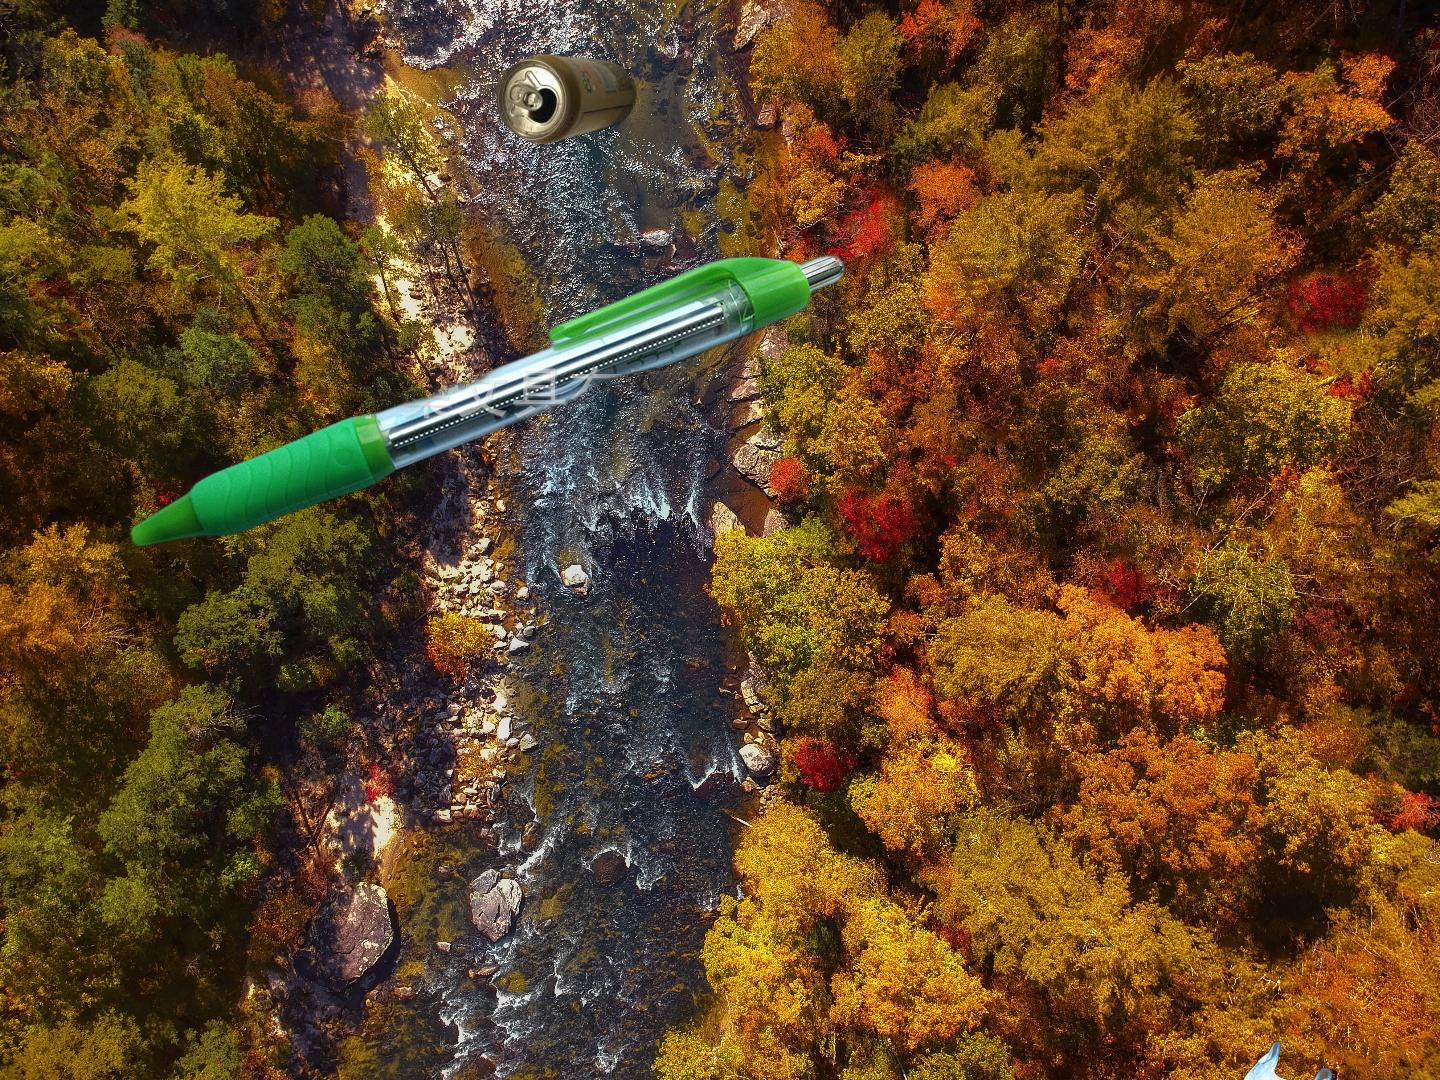metal-cans: (492, 50, 639, 147)
penholder: (124, 251, 859, 640)
plastic-bag: (1231, 1038, 1335, 1080)
